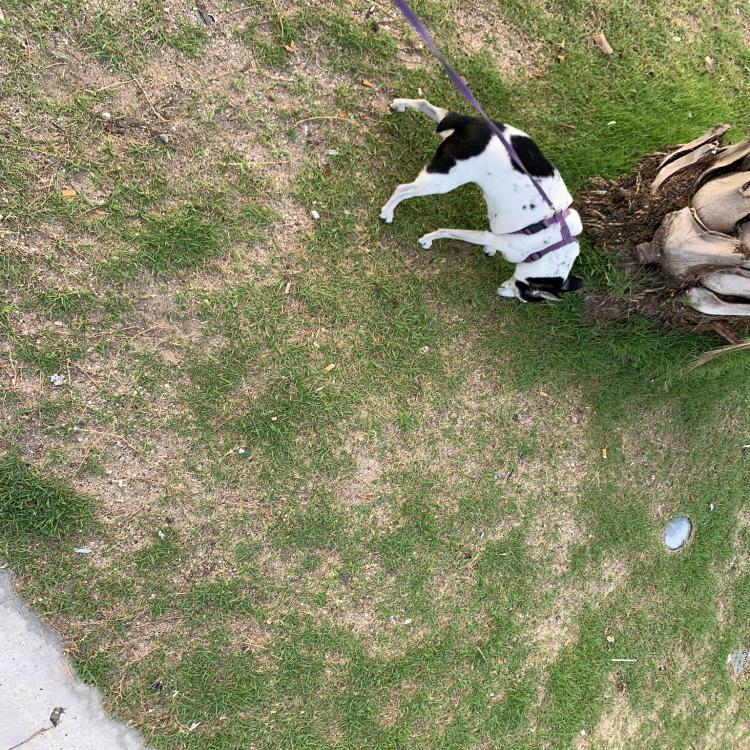Cigarette: (360, 79, 373, 89), (325, 363, 336, 372), (538, 390, 549, 398), (601, 448, 607, 459)
Pop tab: (420, 346, 429, 354)
